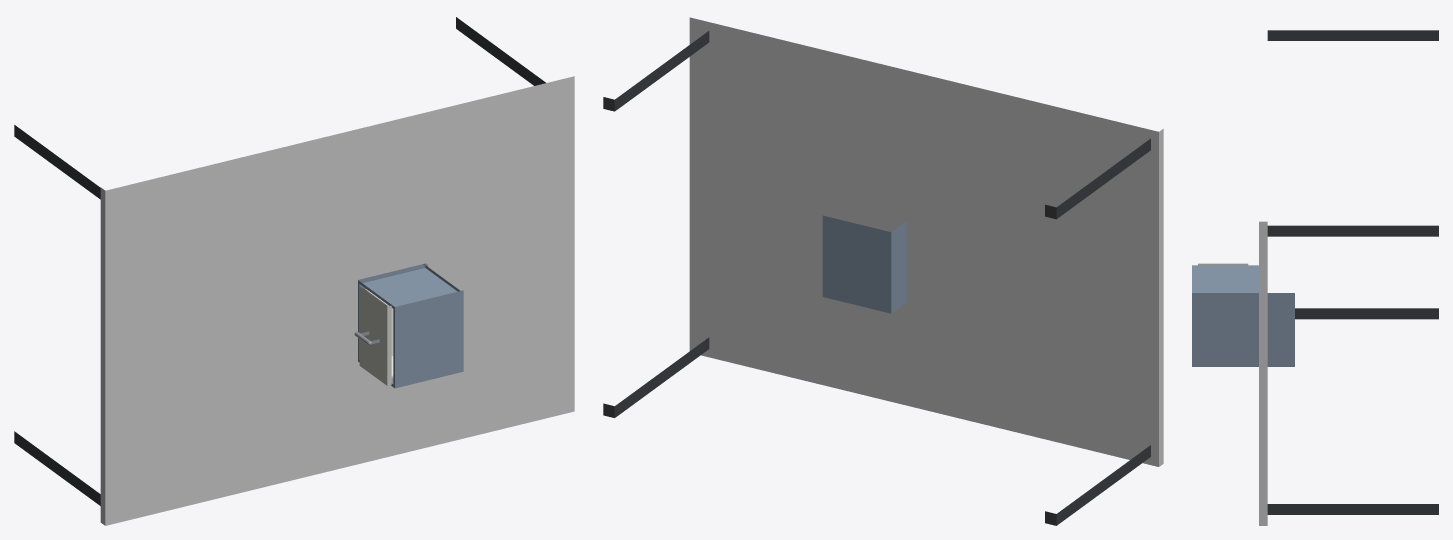
3 views of the same model, side by side, from view 1: azimuth 30°, elevation 25°; view 2: azimuth 150°, elevation 25°; view 3: azimuth 270°, elevation 25° (orthographic). The views are drawn at different scales.
Visible parts, largest first — view 1: s0, s1, s2; view 2: s0, s1; view 3: s0, s1.
Part boxes in pixels (x1,y1,x2,y2): s0: [14, 17, 574, 525]; s1: [358, 263, 463, 388]; s2: [354, 286, 393, 385]; s0: [603, 17, 1163, 525]; s1: [822, 215, 906, 313]; s0: [1259, 30, 1438, 525]; s1: [1192, 265, 1294, 366].
Bounding box in the file's own units: 2.05 × 1.4 × 1.03.
